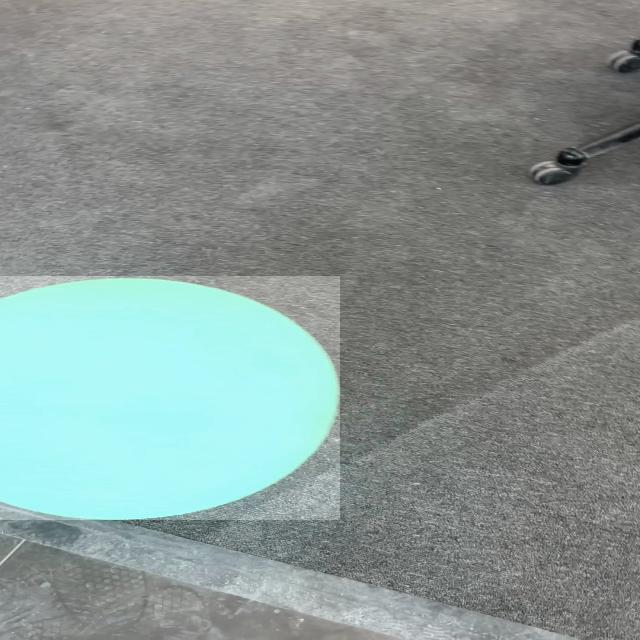Algae: (1, 276, 340, 520)
